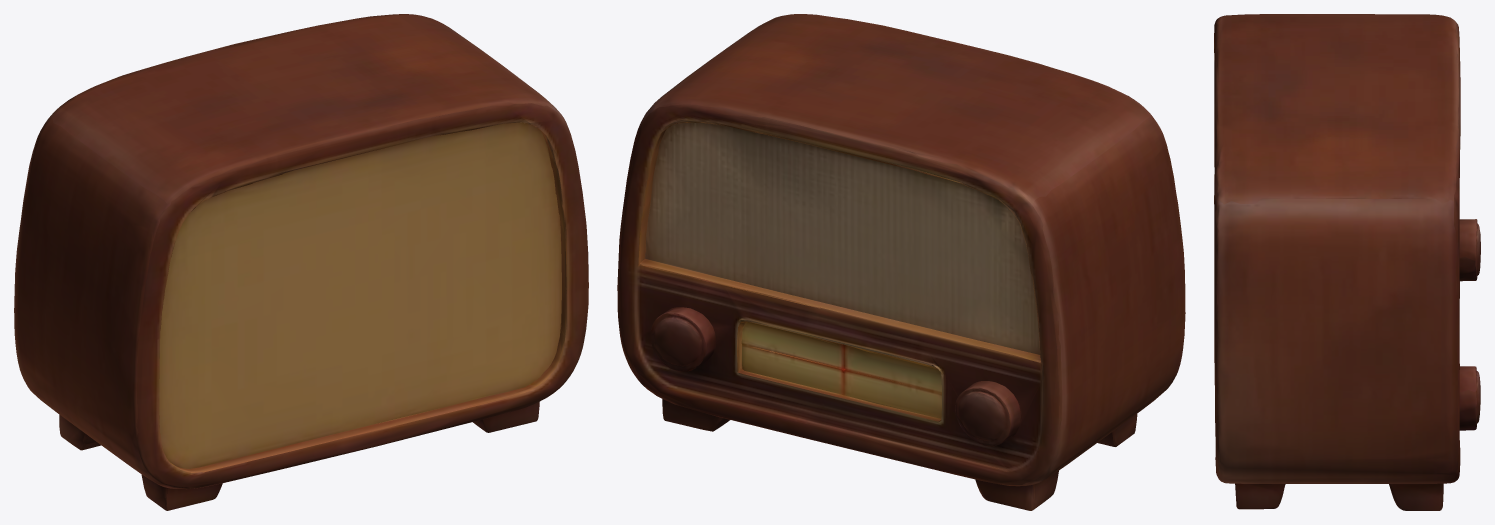
The model's file is radio.glb.
3 renders of one model, left to right at view 1: azimuth 30°, elevation 25°; view 2: azimuth 150°, elevation 25°; view 3: azimuth 270°, elevation 25°, orthographic. The views are drawn at different scales.
Parts seen in each view (by area): view 1: geometry_0; view 2: geometry_0; view 3: geometry_0.
Boxes of the visible parts, left/top/right/bottom form: geometry_0: left=14, top=14, right=588, bottom=510; geometry_0: left=617, top=14, right=1185, bottom=510; geometry_0: left=1214, top=14, right=1480, bottom=510.
Bounding box in the file's own units: 0.3598 × 0.2602 × 0.187.
1 material, 1 textured.
